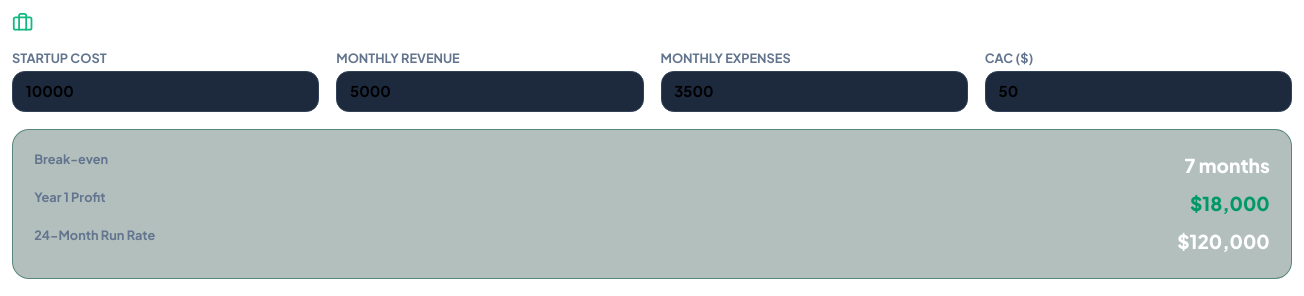
Scenario: tool interactions › BusinessViabilityCalculator › shows "Not reached" when expenses exceed revenue
The width and height of the screenshot is (1304, 296).
Replace the text in the number field showing "5000" below "Monthly Revenue" with "3000" at (490, 92), box [336,72,644,112]
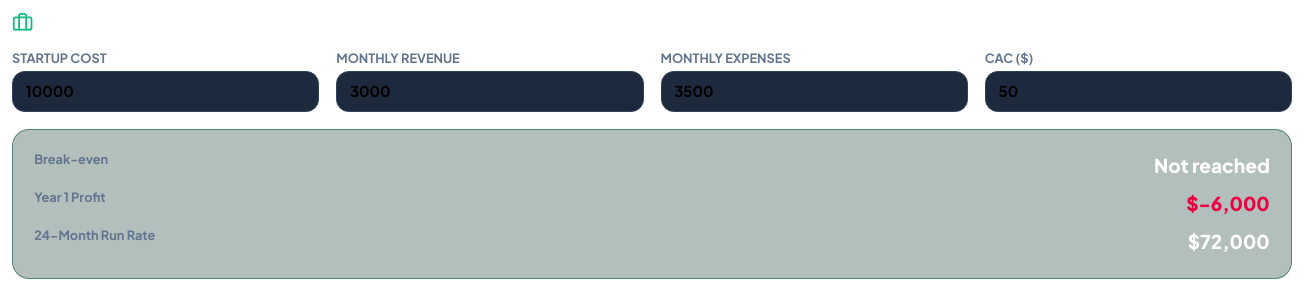
expect the text "Not reached" is shown: met, box [1154,151,1270,181]
